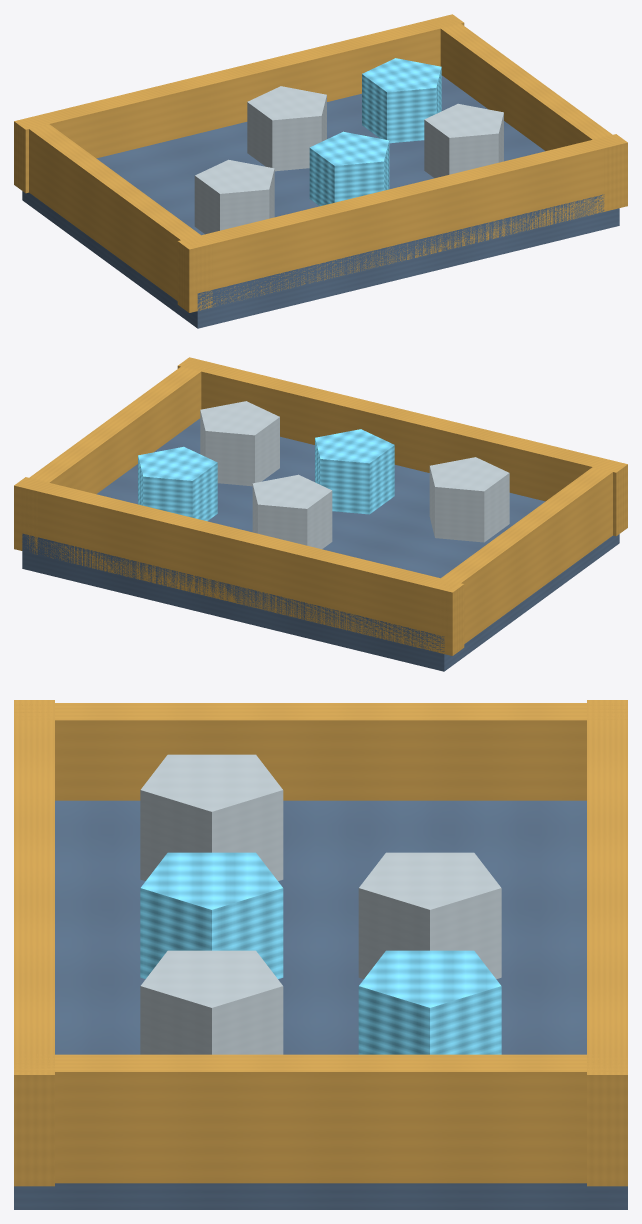
Rendered from atlas100-s051-a03.lod1.glb.
The picture shows the model from 3 angles, top to bottom: view 1: azimuth 30°, elevation 25°; view 2: azimuth 150°, elevation 25°; view 3: azimuth 270°, elevation 25°; orthographic projection. The views are drawn at different scales.
Visible parts, largest first — view 1: atlas100-s051-a03:part-000, atlas100-s051-a03:part-002, atlas100-s051-a03:part-001, atlas100-s051-a03:part-003, atlas100-s051-a03:part-004, atlas100-s051-a03:part-007, atlas100-s051-a03:part-006, atlas100-s051-a03:part-009, atlas100-s051-a03:part-008, atlas100-s051-a03:part-010; view 2: atlas100-s051-a03:part-001, atlas100-s051-a03:part-000, atlas100-s051-a03:part-002, atlas100-s051-a03:part-003, atlas100-s051-a03:part-004, atlas100-s051-a03:part-008, atlas100-s051-a03:part-009, atlas100-s051-a03:part-010, atlas100-s051-a03:part-006, atlas100-s051-a03:part-007; view 3: atlas100-s051-a03:part-000, atlas100-s051-a03:part-004, atlas100-s051-a03:part-003, atlas100-s051-a03:part-001, atlas100-s051-a03:part-002, atlas100-s051-a03:part-006, atlas100-s051-a03:part-008, atlas100-s051-a03:part-009, atlas100-s051-a03:part-007, atlas100-s051-a03:part-010.
Part boxes in pixels (x1,y1,x2,y2): atlas100-s051-a03:part-000: (22, 75, 619, 328); atlas100-s051-a03:part-002: (177, 134, 627, 312); atlas100-s051-a03:part-001: (14, 14, 464, 193); atlas100-s051-a03:part-003: (29, 124, 212, 311); atlas100-s051-a03:part-004: (430, 15, 624, 211); atlas100-s051-a03:part-007: (362, 58, 441, 143); atlas100-s051-a03:part-006: (247, 86, 326, 171); atlas100-s051-a03:part-009: (309, 131, 389, 206); atlas100-s051-a03:part-008: (194, 159, 274, 234); atlas100-s051-a03:part-010: (424, 103, 503, 178); atlas100-s051-a03:part-001: (14, 477, 464, 655); atlas100-s051-a03:part-000: (22, 418, 619, 671); atlas100-s051-a03:part-002: (177, 357, 627, 536); atlas100-s051-a03:part-003: (429, 467, 612, 654); atlas100-s051-a03:part-004: (17, 358, 211, 554); atlas100-s051-a03:part-008: (429, 457, 509, 542); atlas100-s051-a03:part-009: (315, 429, 394, 514); atlas100-s051-a03:part-010: (200, 401, 279, 486); atlas100-s051-a03:part-006: (252, 474, 332, 549); atlas100-s051-a03:part-007: (138, 446, 217, 521); atlas100-s051-a03:part-000: (14, 800, 627, 1209); atlas100-s051-a03:part-004: (14, 1054, 627, 1183); atlas100-s051-a03:part-003: (14, 703, 627, 800); atlas100-s051-a03:part-001: (587, 700, 627, 1186); atlas100-s051-a03:part-002: (14, 700, 54, 1186); atlas100-s051-a03:part-006: (358, 852, 501, 978); atlas100-s051-a03:part-008: (140, 754, 283, 880); atlas100-s051-a03:part-009: (140, 852, 283, 978); atlas100-s051-a03:part-007: (358, 950, 501, 1054); atlas100-s051-a03:part-010: (140, 950, 283, 1054).
Size of the model in its own units: 1.36 by 0.2563 by 0.9414.
Materials: 4 (4 with a texture image).
